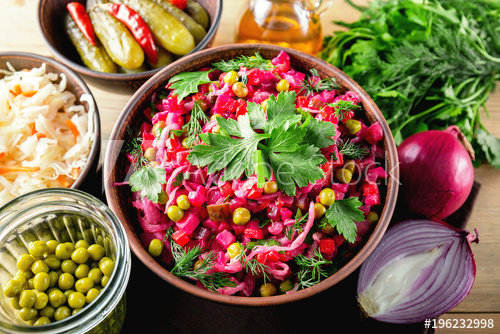boiled peas: (1, 238, 122, 328)
chopped lettuce: (333, 6, 500, 140)
plain rice: (4, 59, 93, 214)
